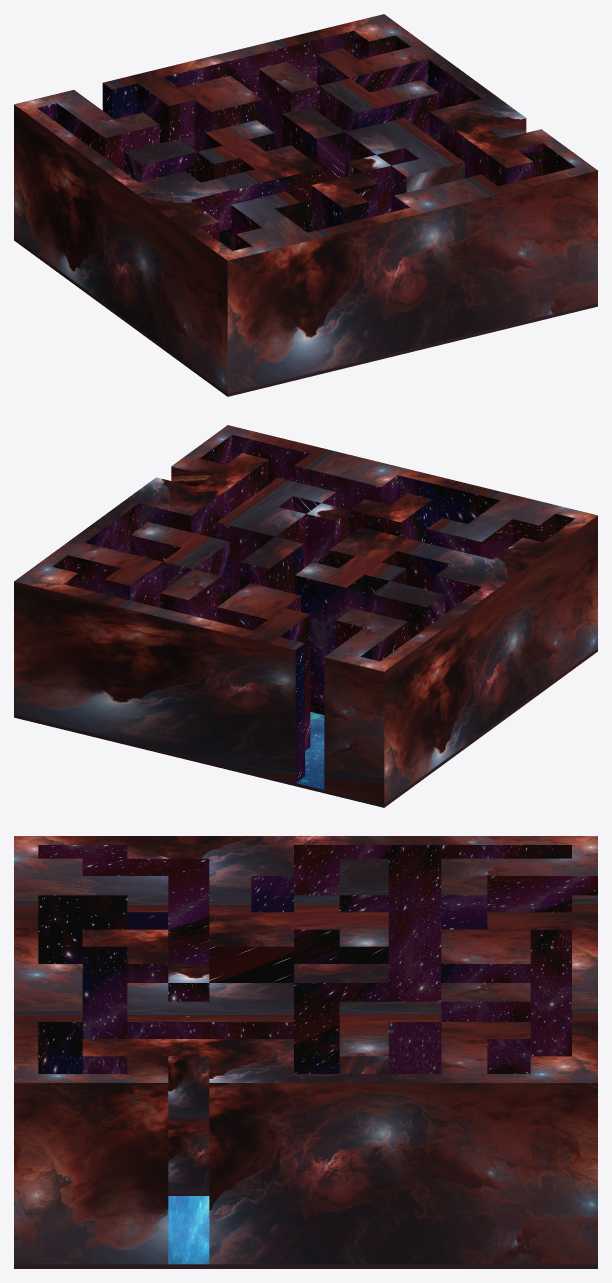
Rendered from Ceklvl3.fbx.
The picture shows the model from 3 angles, top to bottom: view 1: azimuth 30°, elevation 25°; view 2: azimuth 150°, elevation 25°; view 3: azimuth 270°, elevation 25°; orthographic projection. The views are drawn at different scales.
Visible parts, largest first — view 1: Cube; view 2: Cube; view 3: Cube.
Part boxes in pixels (<box>): Cube: <box>14,14,597,396</box>; Cube: <box>14,425,597,807</box>; Cube: <box>14,836,597,1268</box>.
Bounding box in the file's own units: 1215 × 427 × 1215.
